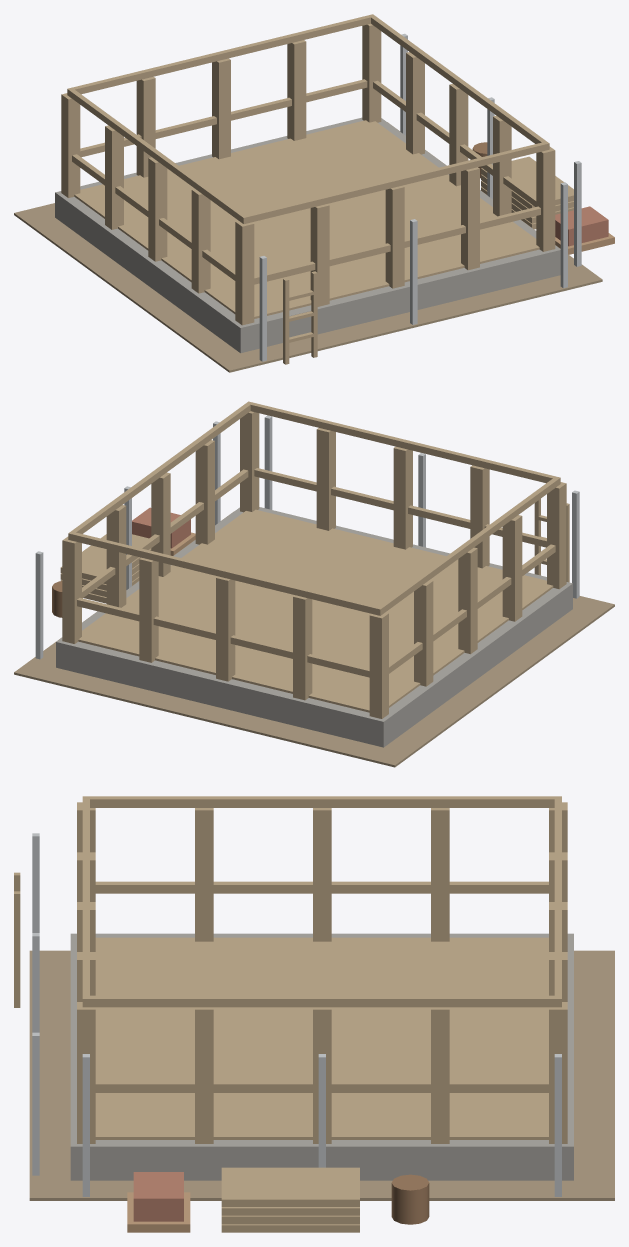
The model's file is pig_pen_site_4.glb.
The picture shows the model from 3 angles, top to bottom: view 1: azimuth 30°, elevation 25°; view 2: azimuth 150°, elevation 25°; view 3: azimuth 270°, elevation 25°; orthographic projection. The views are drawn at different scales.
Visible parts, largest first — view 1: body; view 2: body; view 3: body.
Part boxes in pixels (left/top/right/bottom): body: left=14, top=14, right=614, bottom=372; body: left=14, top=401, right=614, bottom=767; body: left=14, top=796, right=614, bottom=1232.
Bounding box in the file's own units: 2.1 × 0.63 × 1.91.
